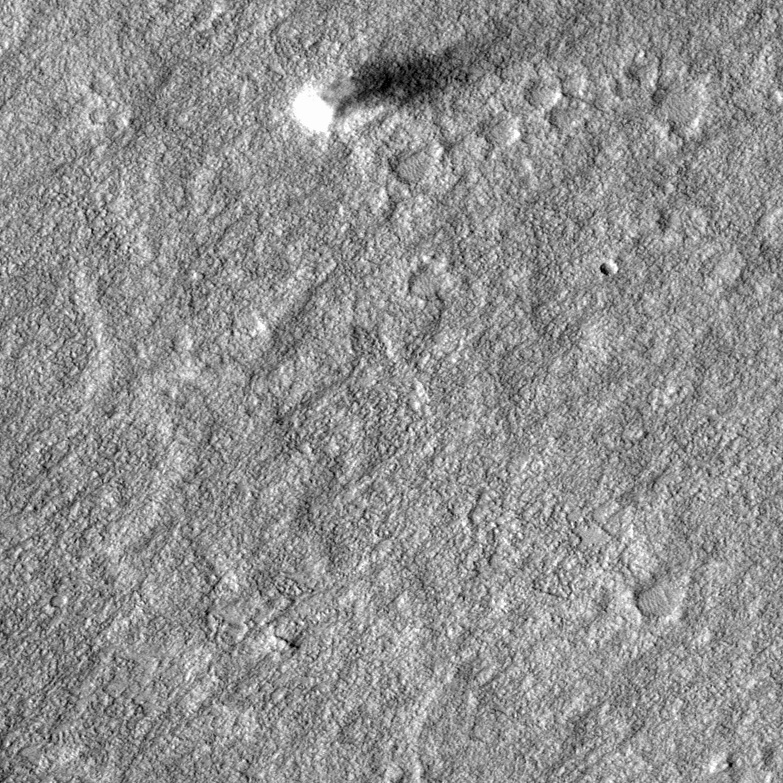dust_devil: (286, 40, 483, 139)
